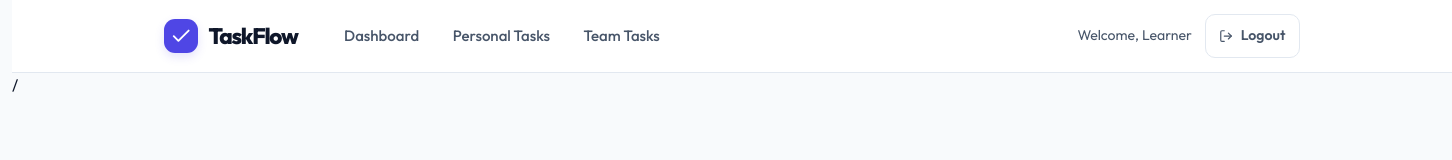
it: logout keeps authentication notification, state reset and login navigation
The width and height of the screenshot is (1452, 160).
Click the button "Logout" at coordinates (1252, 36), box [1205,14,1300,58]
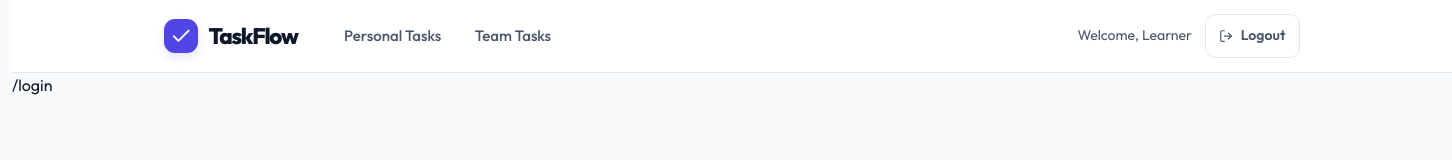
Expected: the text with test id "current-route" reads "/login", [12,75,52,95]
